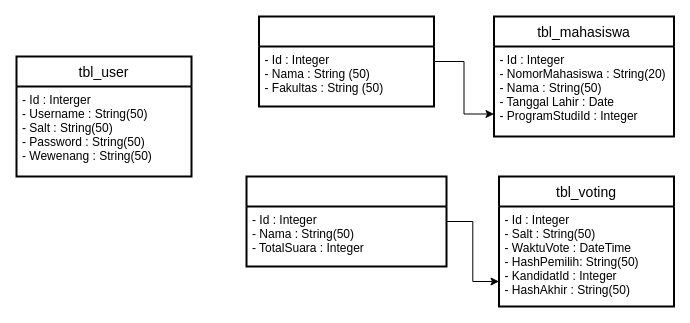
Some shapes in this 690 by 323 pixel diagram are drawn without their labels. The box of each missing label's shape, as (x1, y1, x2, y2) in pixels:
tbl_kandidat: (245, 175, 447, 267)
tbl_prodi: (258, 15, 434, 107)
